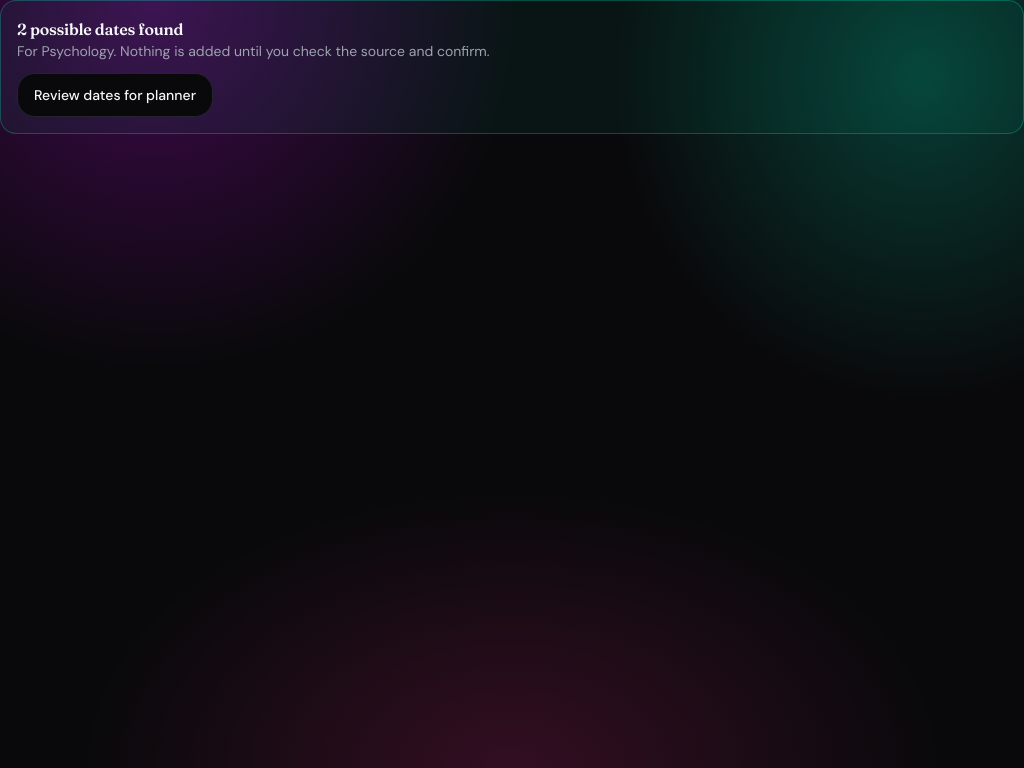
Test: planner confirmation UI › requires source review and explicit selection, then confirms the selected date only
This screenshot has width=1024, height=768.
Click the button "Review dates for planner" at (115, 95), box x1=17 y1=73 x2=213 y2=117
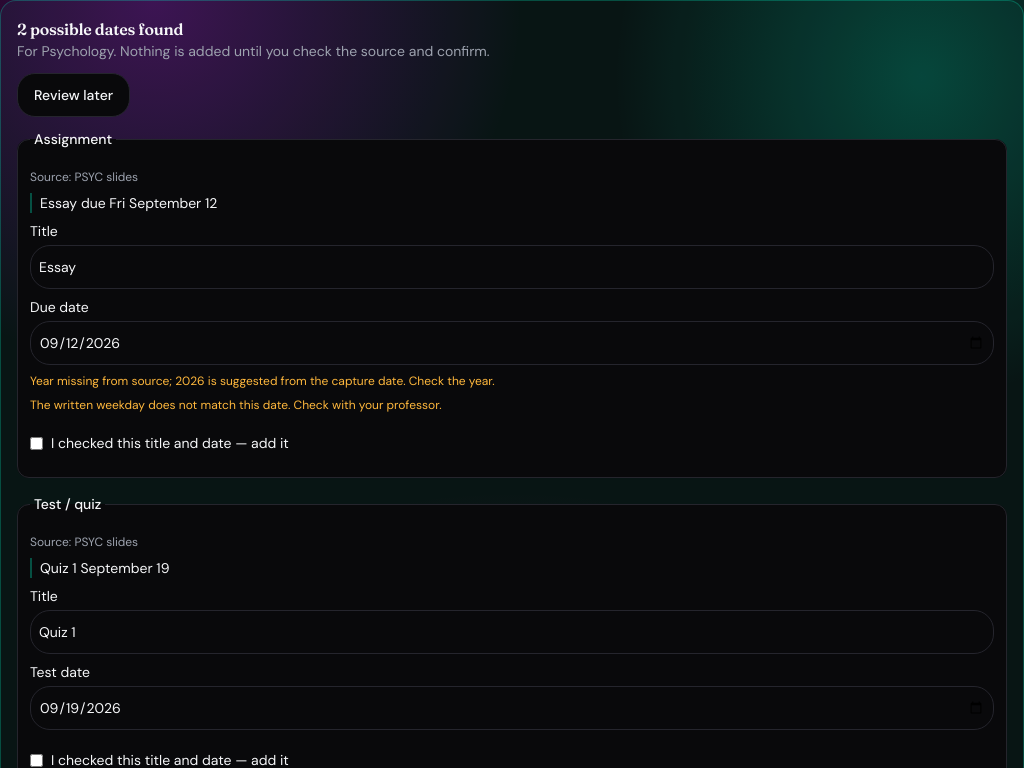
Expected: the text "Nothing is added until" is shown, x1=114 y1=42 x2=490 y2=60
Expected: the text "written weekday does not match" is shown, x1=30 y1=397 x2=442 y2=413
Type "2026-09-11" into the date field named "Date 1" at (512, 343), box x1=30 y1=321 x2=994 y2=365
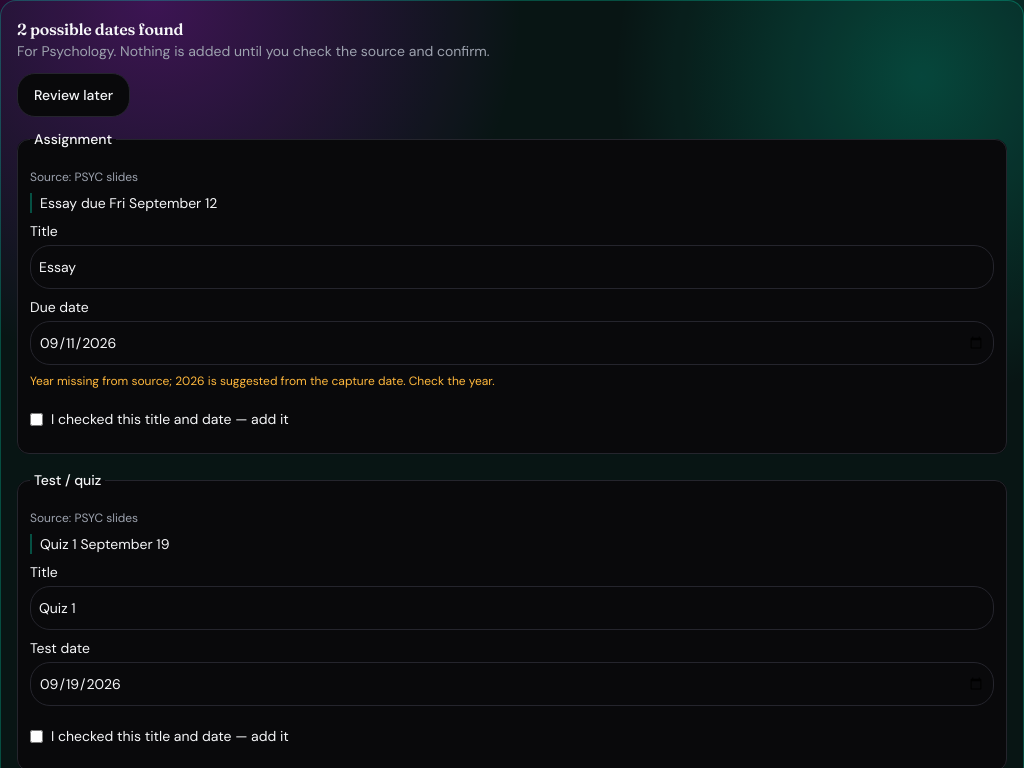
Expected: the text "written weekday does not match" is gone
Click the checkbox labelled "I checked this title and date — add it" below "Due date" at (36, 419), box x1=30 y1=412 x2=43 y2=426
(page scrolled)
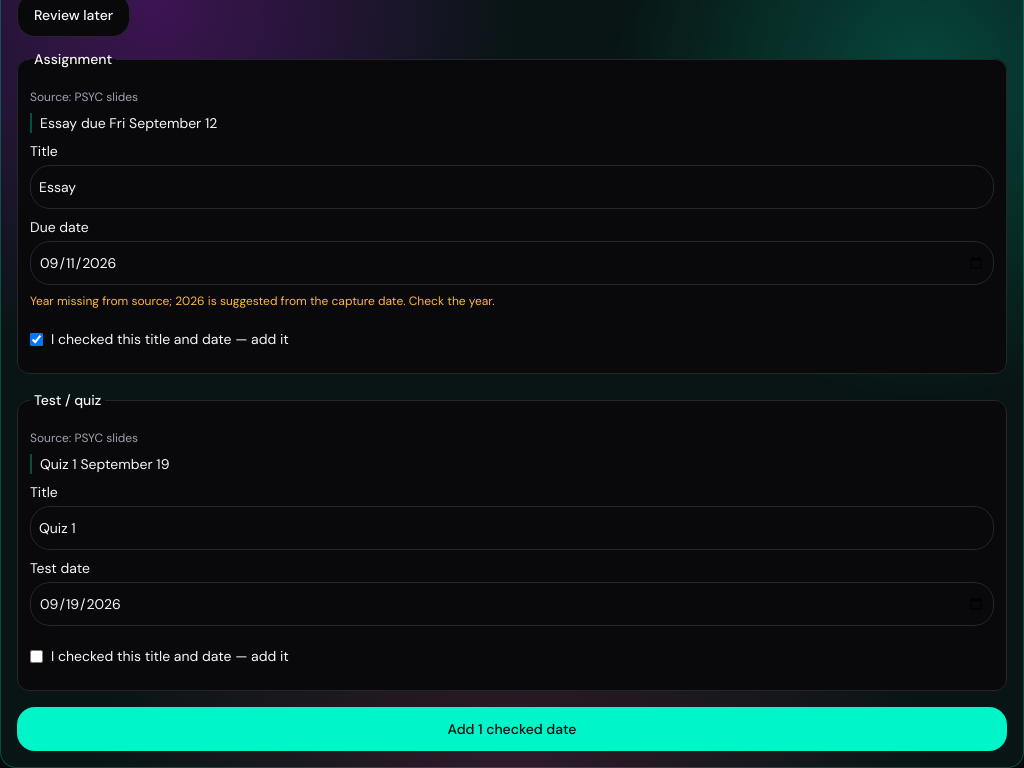
Click the button "Add 1 checked date" at (512, 729), box x1=17 y1=707 x2=1007 y2=751
(page scrolled)
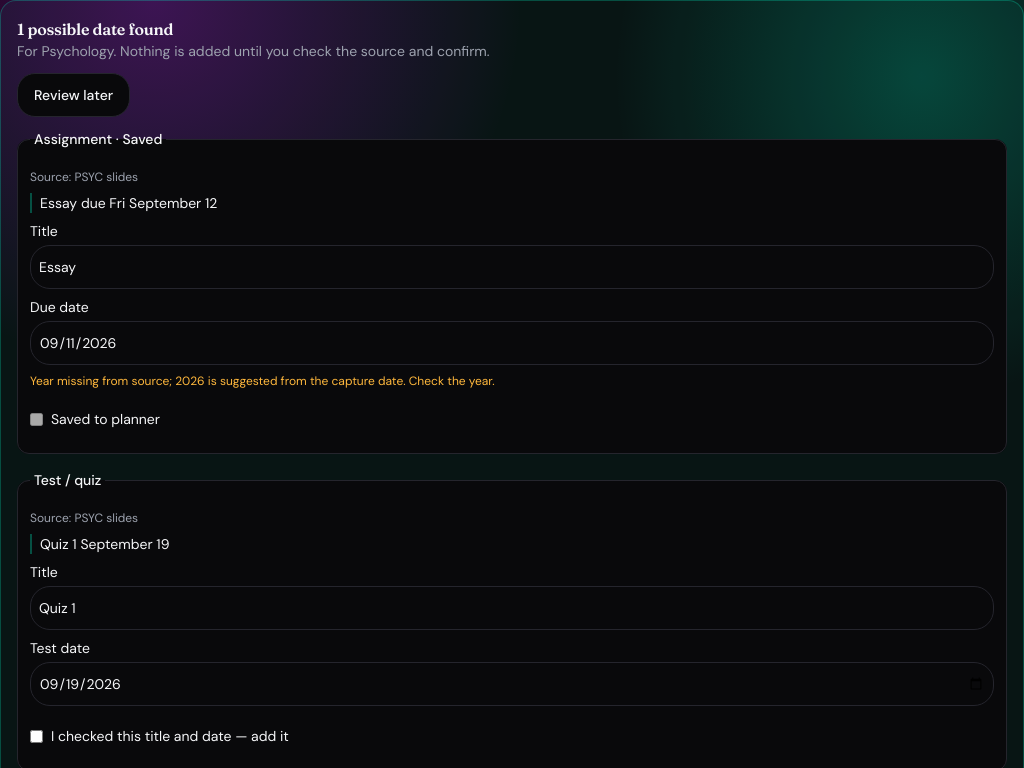
Expected: the heading "1 possible date found" is shown, x1=17 y1=19 x2=173 y2=39
